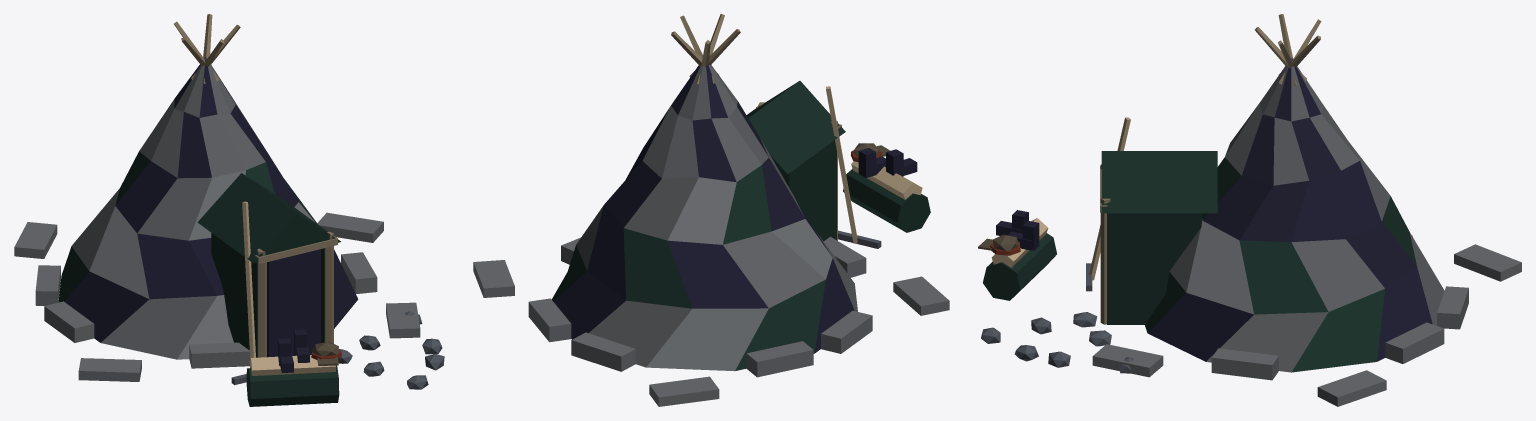
The model's file is collier_hut_cold_cap.glb.
3 renders of one model, left to right at view 1: azimuth 30°, elevation 25°; view 2: azimuth 150°, elevation 25°; view 3: azimuth 270°, elevation 25°, orthographic. The views are drawn at different scales.
Visible parts, largest first — view 1: pine_d50, pine_d55, silverfog_d50, ink, driftwood_d35, driftwood_d10, slate_d30, driftwood_d60; view 2: pine_d50, silverfog_d50, pine_d55, driftwood_d10, driftwood_d35, ink; view 3: pine_d50, pine_d55, silverfog_d50, driftwood_d35, slate_d30, ink, driftwood_d10.
Boxes of the visible parts, bbox=[...] form: pine_d50: bbox=[58, 56, 358, 359]; pine_d55: bbox=[197, 173, 340, 406]; silverfog_d50: bbox=[14, 212, 420, 381]; ink: bbox=[267, 249, 321, 372]; driftwood_d35: bbox=[174, 14, 337, 357]; driftwood_d10: bbox=[242, 201, 335, 375]; slate_d30: bbox=[231, 311, 444, 389]; driftwood_d60: bbox=[312, 341, 338, 365]; pine_d50: bbox=[551, 65, 857, 371]; silverfog_d50: bbox=[473, 236, 949, 406]; pine_d55: bbox=[746, 81, 930, 241]; driftwood_d10: bbox=[826, 86, 922, 243]; driftwood_d35: bbox=[671, 14, 841, 240]; ink: bbox=[858, 148, 917, 177]; pine_d50: bbox=[1145, 57, 1444, 372]; pine_d55: bbox=[983, 151, 1217, 324]; silverfog_d50: bbox=[1092, 235, 1521, 406]; driftwood_d35: bbox=[1100, 14, 1321, 324]; slate_d30: bbox=[981, 263, 1133, 373]; ink: bbox=[996, 210, 1039, 250]; driftwood_d10: bbox=[991, 117, 1130, 280].
Size of the model in its own units: 4.33 by 2.96 by 5.16.
